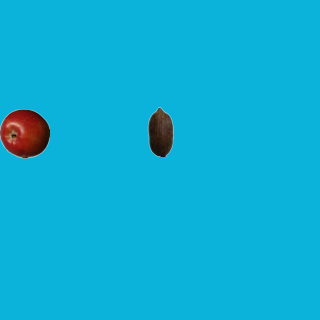Apple Braeburn: (0, 108, 49, 158)
Nut Pecan: (135, 106, 185, 156)
